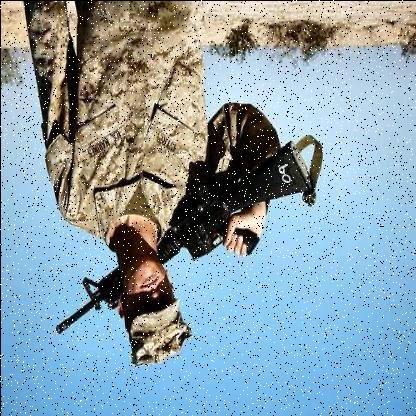rifle: (47, 115, 323, 372)
